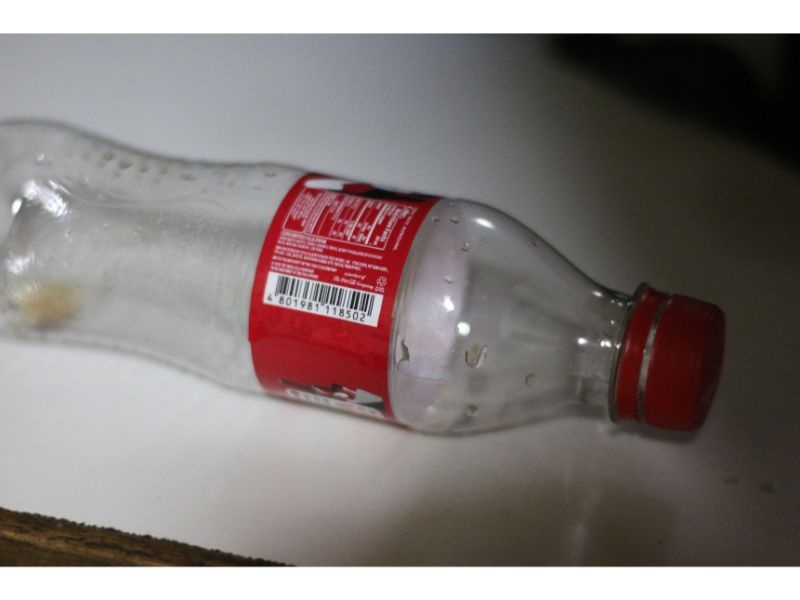PET #1: (1, 116, 731, 439)
